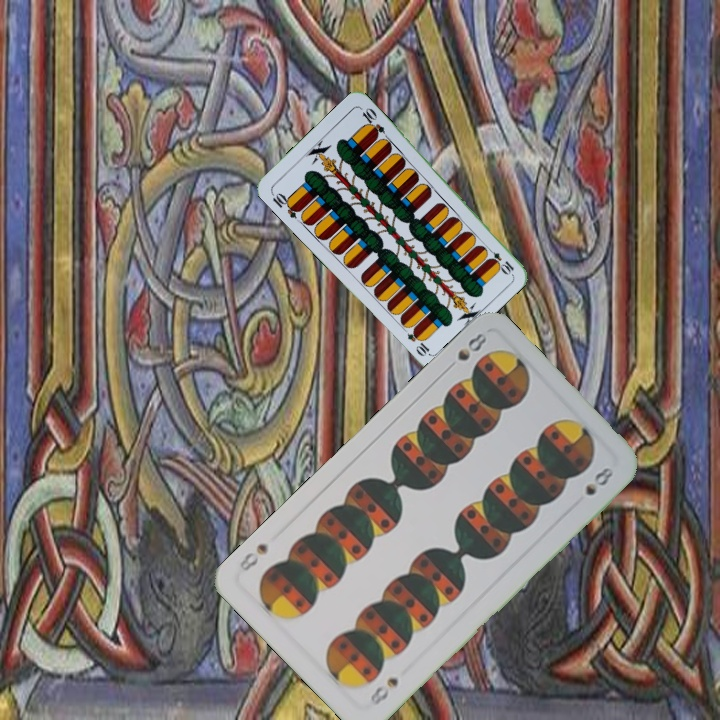E10: (267, 188, 303, 221), (482, 243, 516, 277)
S8: (441, 329, 490, 374), (366, 673, 402, 709)
